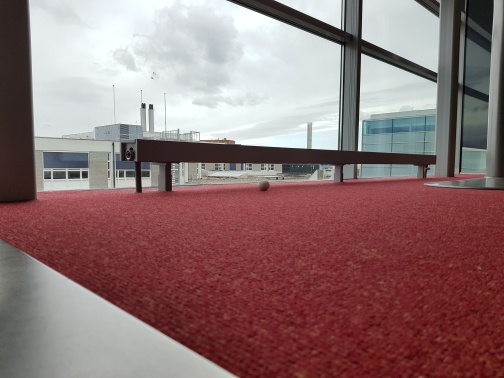egg: (255, 179, 271, 192)
